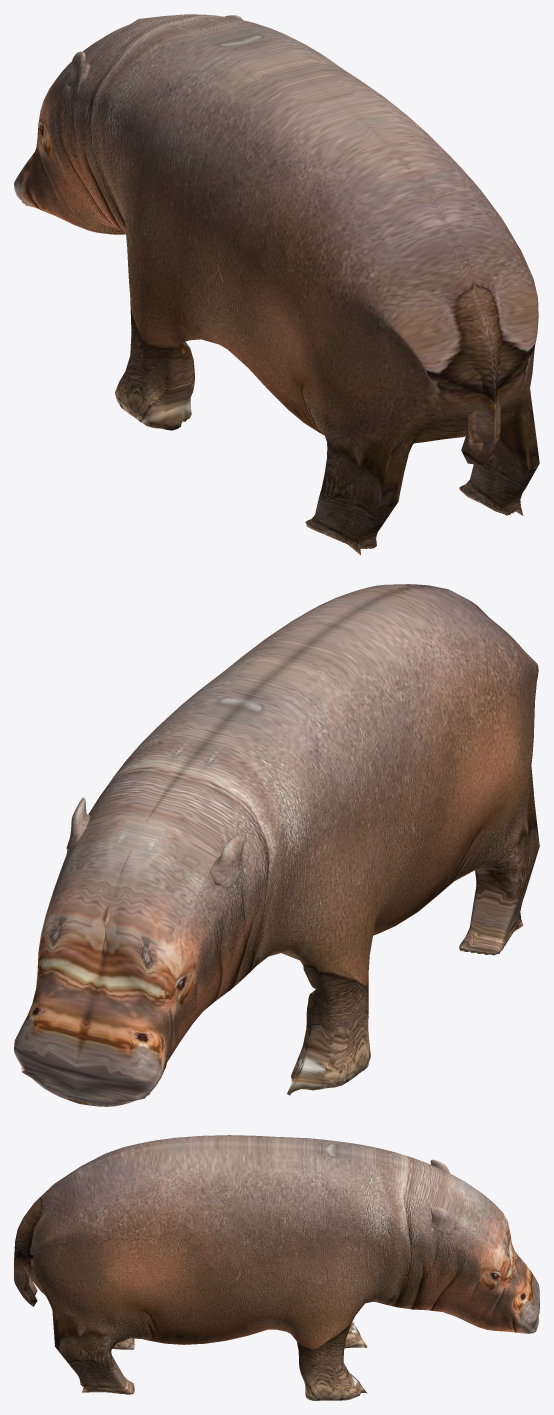
File: hippo-textured2.glb
3 views of the same model, one above another, from view 1: azimuth 30°, elevation 25°; view 2: azimuth 150°, elevation 25°; view 3: azimuth 270°, elevation 25° (orthographic). The views are drawn at different scales.
Parts seen in each view (by area): view 1: Plane; view 2: Plane; view 3: Plane.
Part boxes in pixels (bbox=[...]): Plane: bbox=[14, 14, 539, 555]; Plane: bbox=[14, 584, 539, 1106]; Plane: bbox=[14, 1135, 539, 1400].
Bounding box in the file's own units: 1.47 × 2.26 × 4.71.
Materials: 1 (1 with a texture image).
